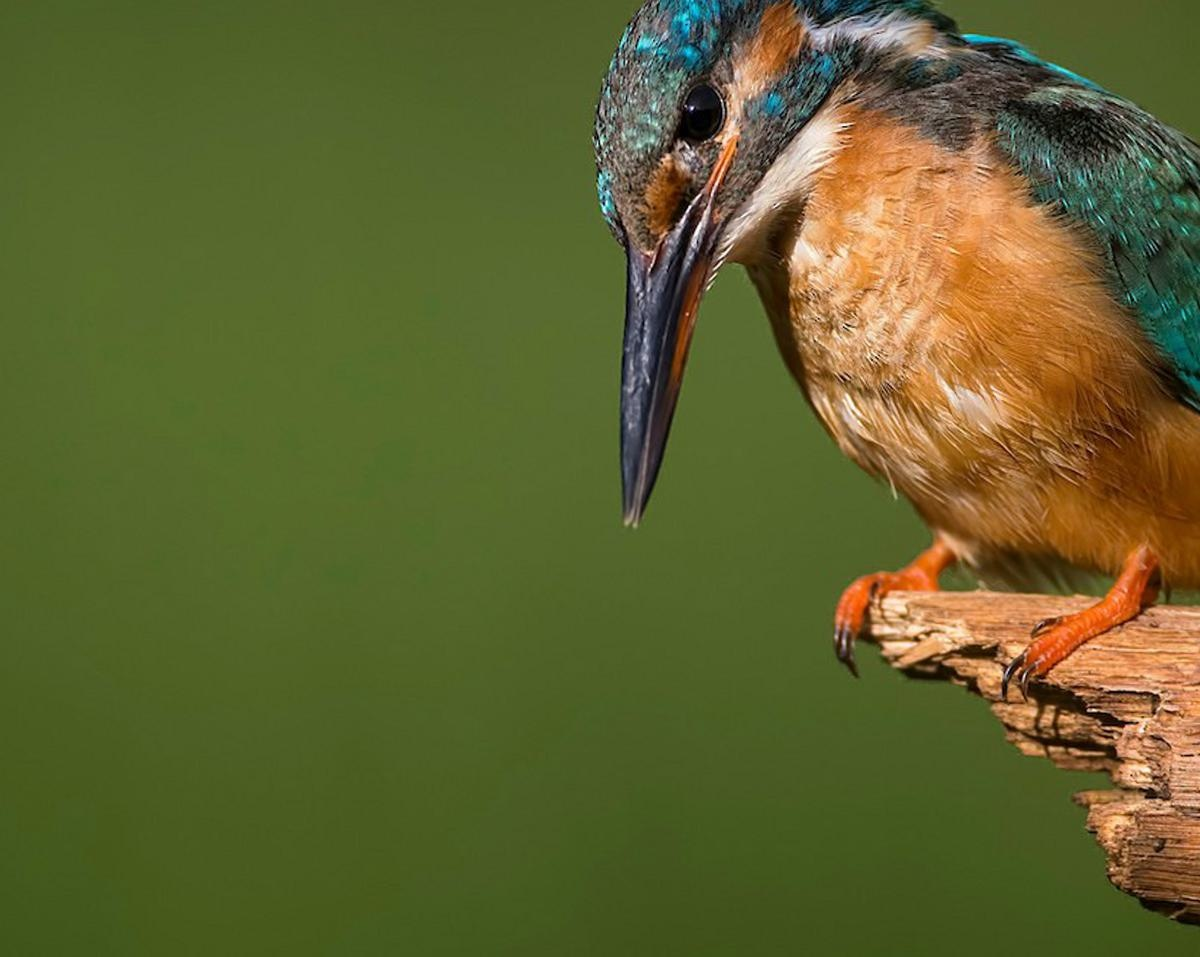kingfisher: (575, 4, 1200, 657)
